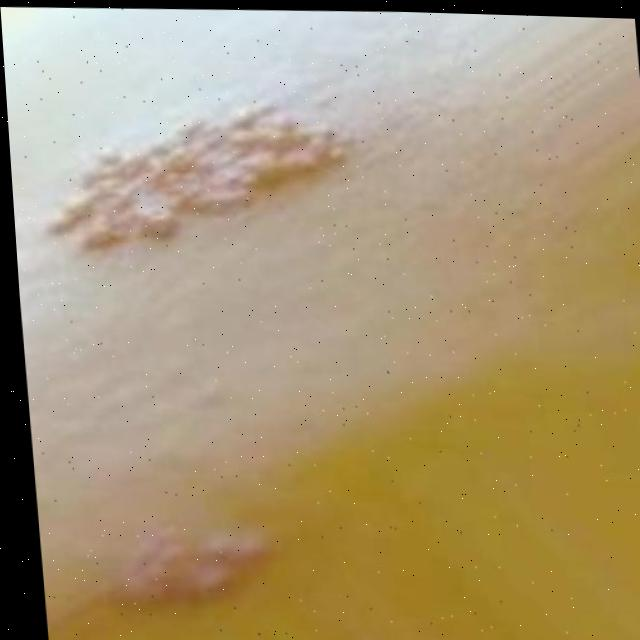Shingles: (35, 98, 363, 266), (112, 512, 271, 600)
